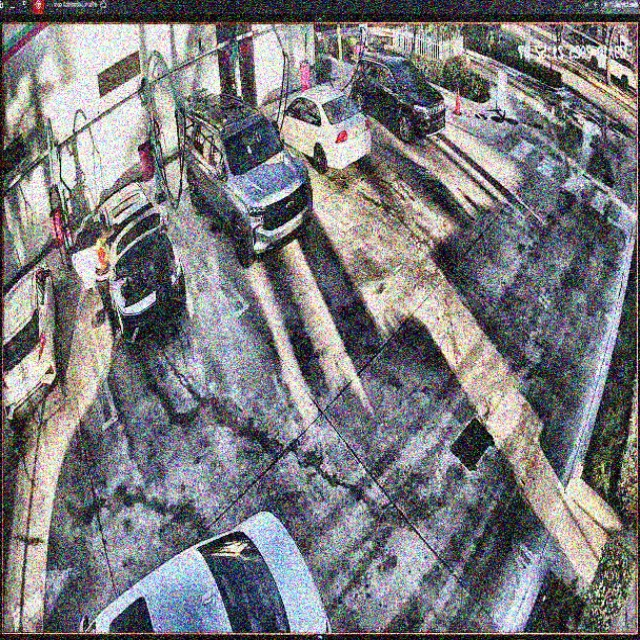Car: (182, 92, 312, 262), (77, 181, 181, 344), (272, 83, 371, 172)
